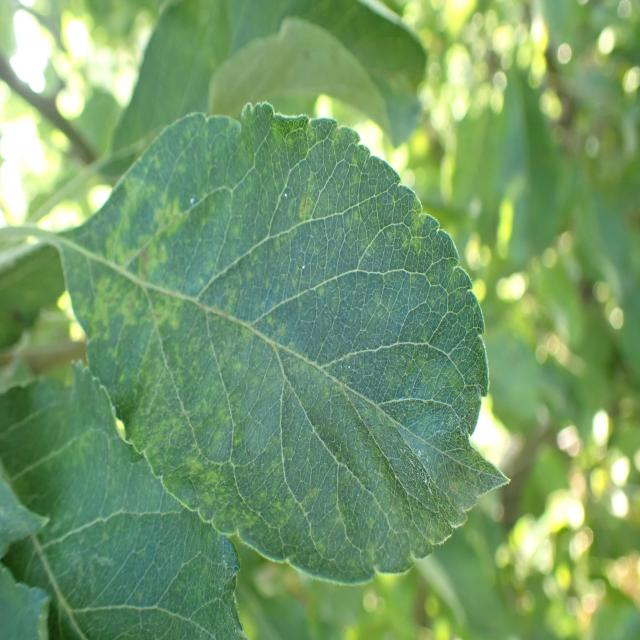scab: (120, 205, 177, 358), (178, 294, 291, 359)
